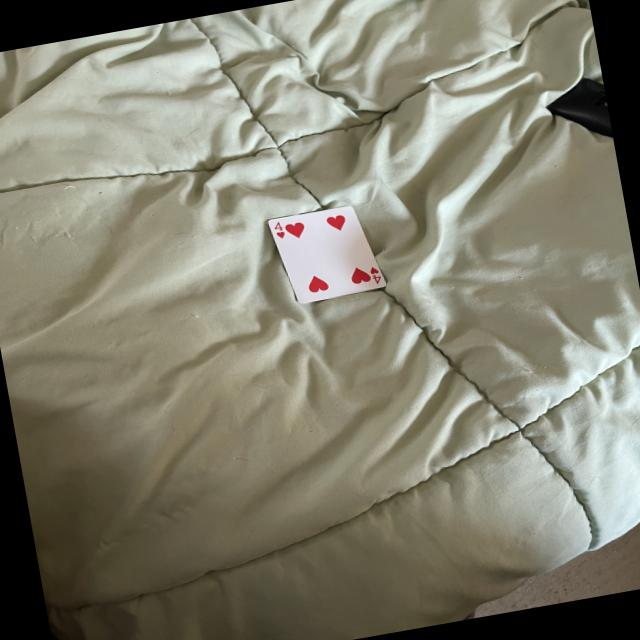4 of hearts: (267, 206, 390, 308)
